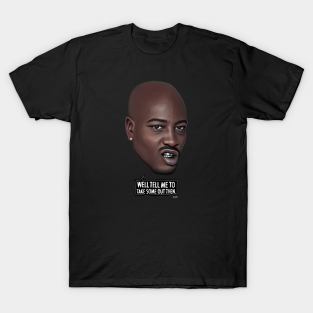design: (122, 78, 190, 199)
